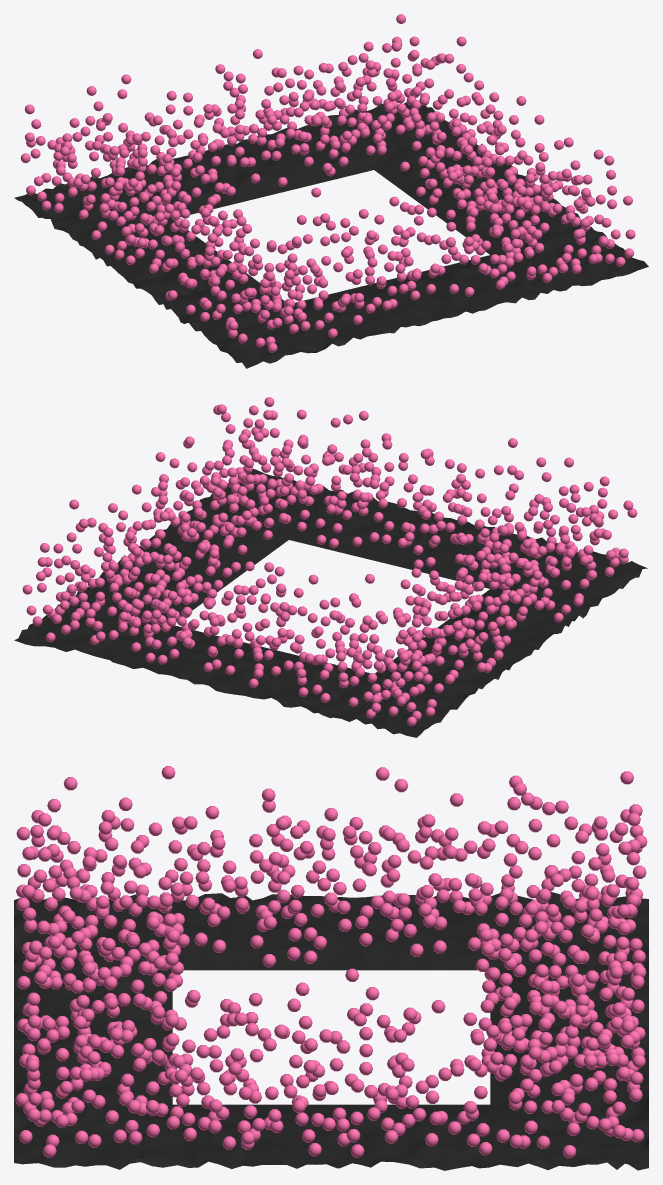
The model's file is borderDark.glb.
3 renders of one model, top to bottom at view 1: azimuth 30°, elevation 25°; view 2: azimuth 150°, elevation 25°; view 3: azimuth 270°, elevation 25°, orthographic. The views are drawn at different scales.
Visible parts, largest first — view 1: Balls, BorderGround; view 2: Balls, BorderGround; view 3: Balls, BorderGround.
Boxes of the visible parts, <box> form: Balls: <box>20,14,635,352</box>; BorderGround: <box>14,102,648,368</box>; Balls: <box>22,397,637,726</box>; BorderGround: <box>14,467,647,737</box>; Balls: <box>15,766,647,1158</box>; BorderGround: <box>14,891,648,1170</box>.
Size of what is drawn, in the model's own units: 64 by 16.87 by 64.
1 material, 1 textured.
